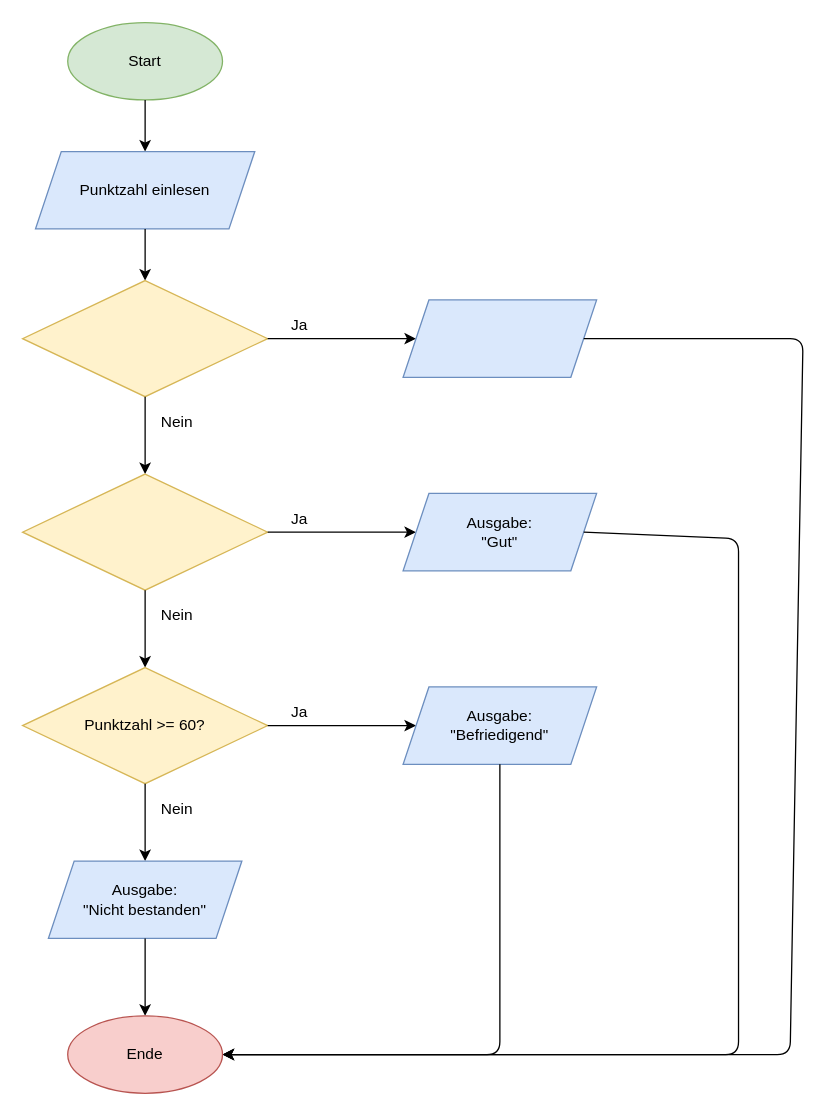
The diagram is 836 pixels wide and 1116 high, and some of its shapes have lost their labels. The centre of each missing label's shape, as x and y in pixels:
Ausgabe: "Sehr gut": point 499,338
Punktzahl >= 75?: point 144,531
Punktzahl >= 90?: point 144,338
